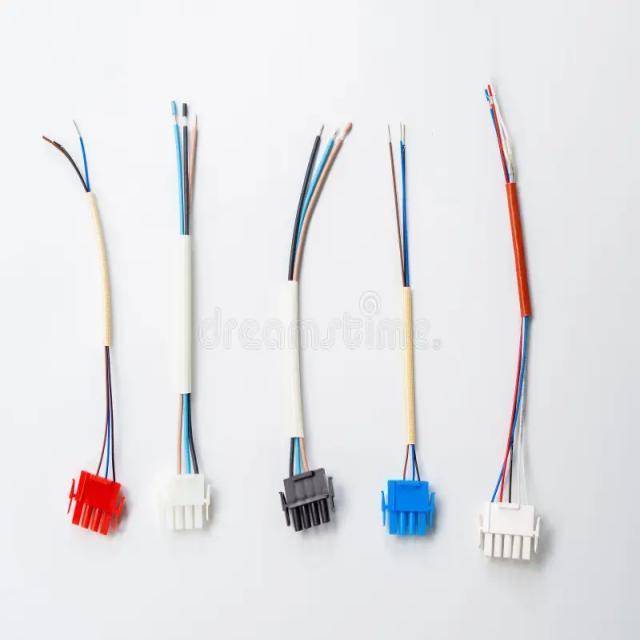connector: (57, 468, 131, 538), (273, 462, 343, 535), (477, 501, 541, 560), (157, 474, 212, 530), (381, 479, 435, 536)
